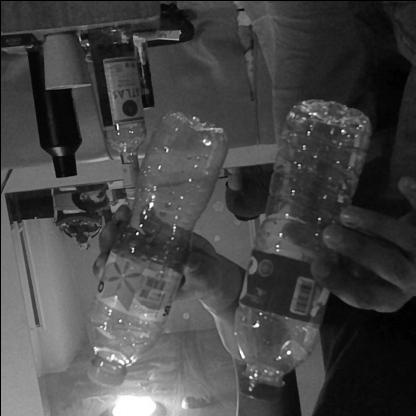plastic_bottles: (228, 93, 368, 400), (82, 115, 231, 381)
